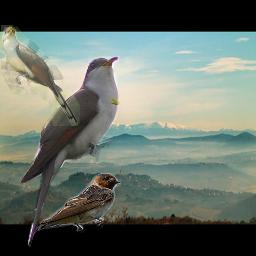Cuckoo: (19, 56, 120, 249), (1, 25, 80, 126)
Swallow: (36, 172, 121, 234)
